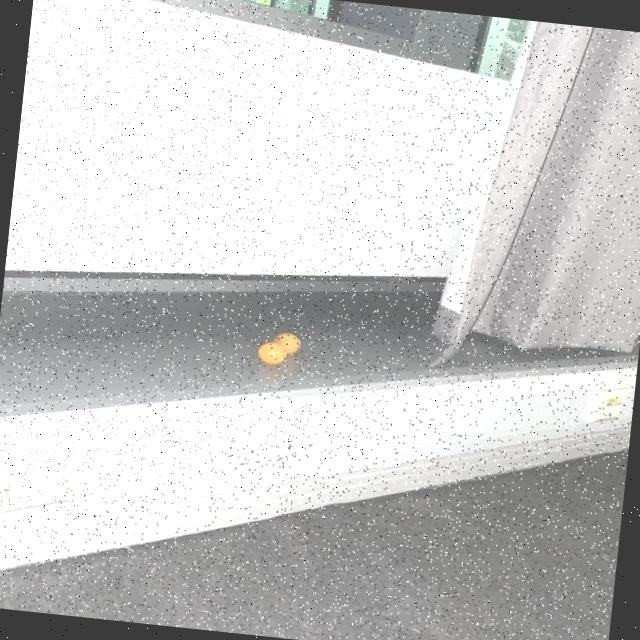ping-pong-ball: (255, 342, 288, 364), (272, 330, 302, 354)
